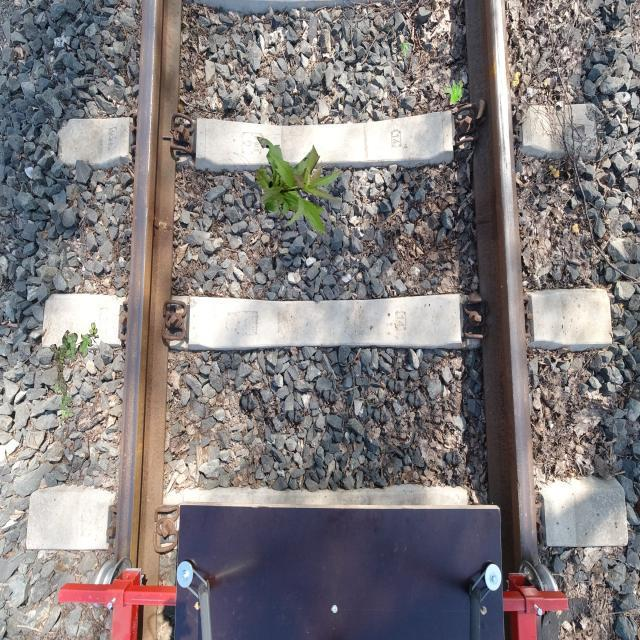Plant: (255, 137, 344, 234), (50, 323, 98, 426), (443, 80, 464, 105), (400, 42, 414, 58)
